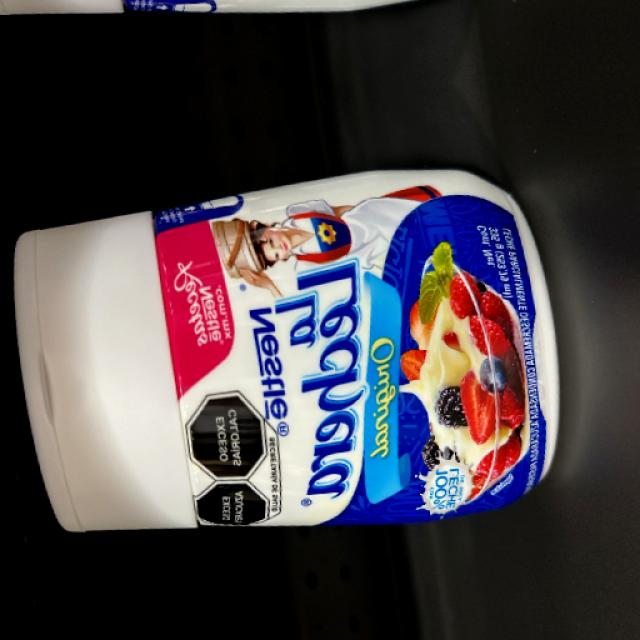nestleLechera: (26, 178, 550, 522)
